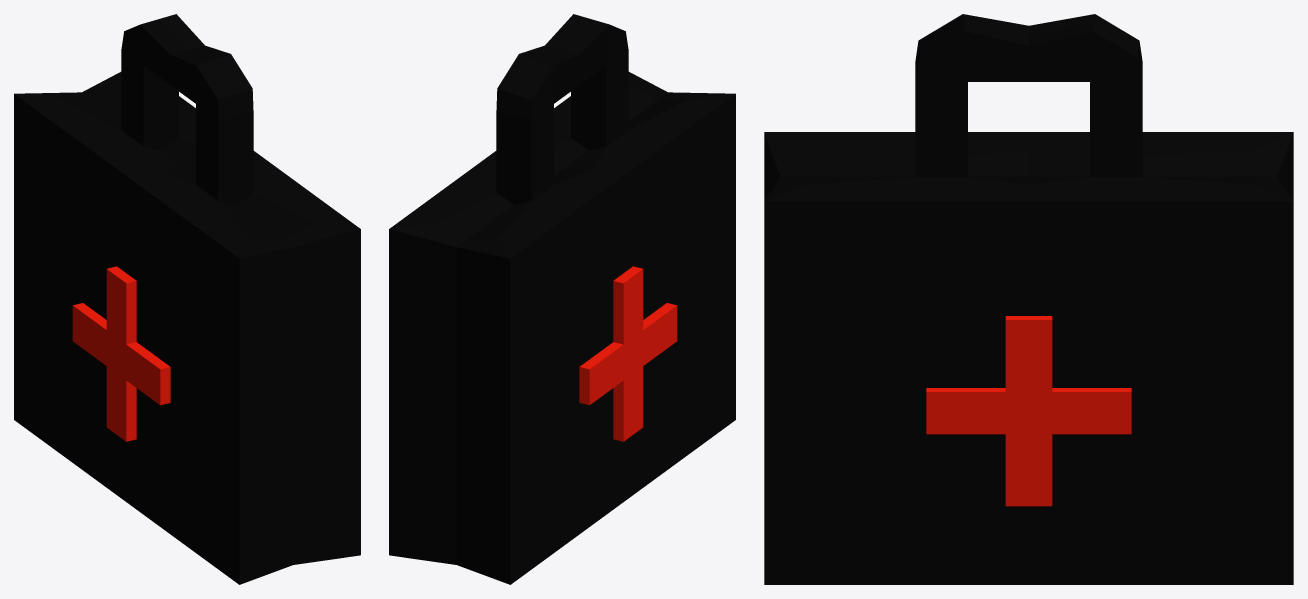
File: Botiquin.fbx
The picture shows the model from 3 angles, left to right: view 1: azimuth 30°, elevation 25°; view 2: azimuth 150°, elevation 25°; view 3: azimuth 270°, elevation 25°; orthographic projection. The views are drawn at different scales.
Parts seen in each view (by area): view 1: Cube, Cube.001; view 2: Cube, Cube.001; view 3: Cube, Cube.001.
Part boxes in pixels (left/top/right/bottom): Cube: left=14, top=14, right=360, bottom=584; Cube.001: left=72, top=266, right=170, bottom=441; Cube: left=389, top=14, right=735, bottom=584; Cube.001: left=579, top=266, right=677, bottom=441; Cube: left=764, top=14, right=1293, bottom=584; Cube.001: left=926, top=316, right=1131, bottom=506.
Size of the model in its own units: 70.98 by 220 by 200.
